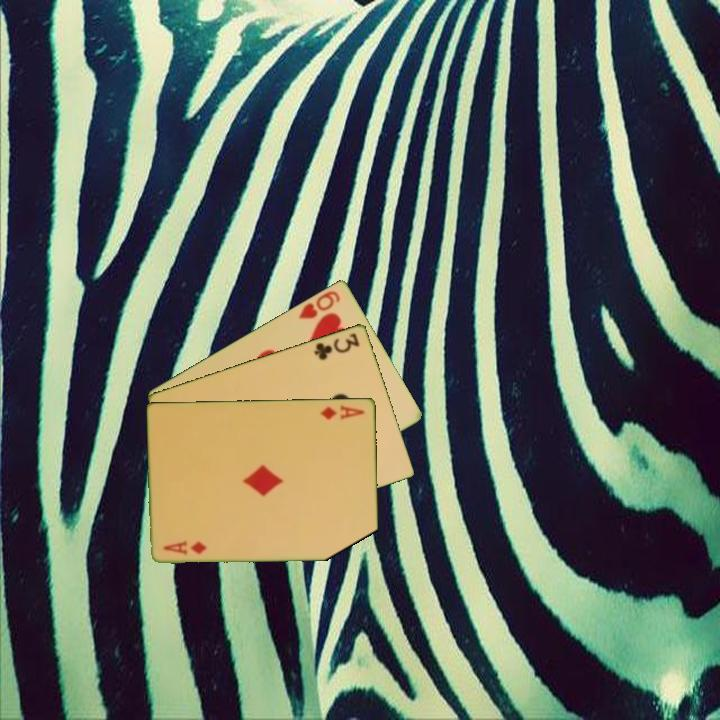3c: (311, 329, 362, 363)
6h: (295, 287, 343, 322)
Ad: (317, 401, 368, 422), (160, 536, 210, 557)
